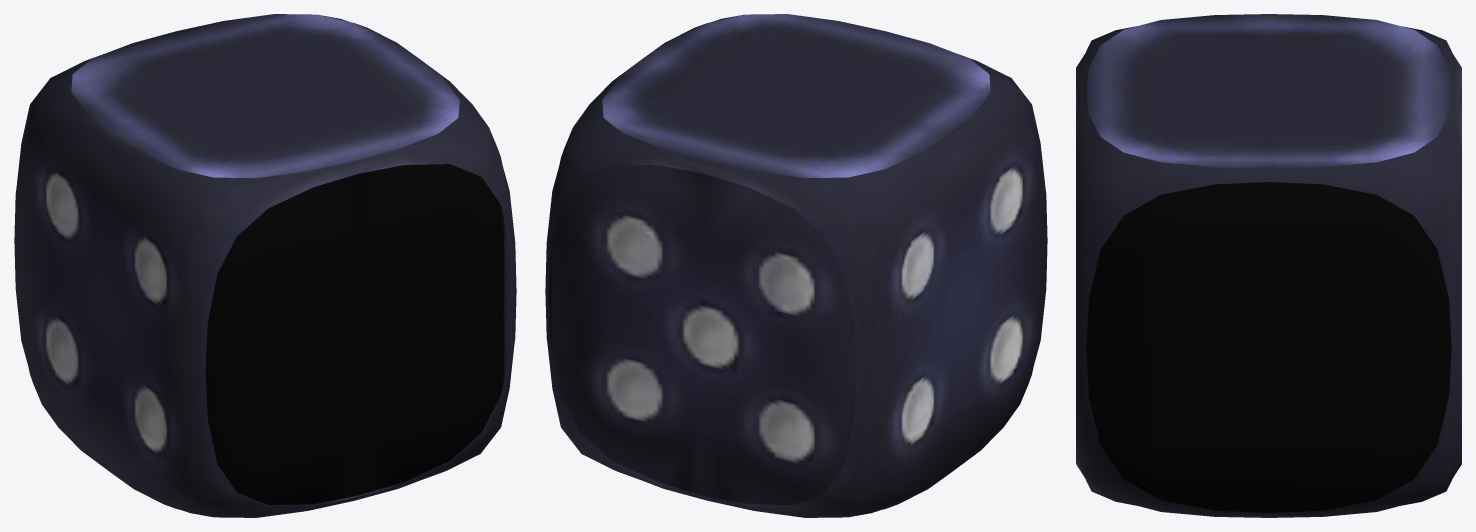
The model's file is dice.fbx.
The picture shows the model from 3 angles, left to right: view 1: azimuth 30°, elevation 25°; view 2: azimuth 150°, elevation 25°; view 3: azimuth 270°, elevation 25°; orthographic projection. The views are drawn at different scales.
Visible parts, largest first — view 1: Dice; view 2: Dice; view 3: Dice.
Part boxes in pixels (x1,y1,x2,y2): Dice: [14, 14, 516, 517]; Dice: [545, 14, 1047, 517]; Dice: [1076, 14, 1461, 517].
Bounding box in the file's own units: 1.46 × 1.46 × 1.46.
